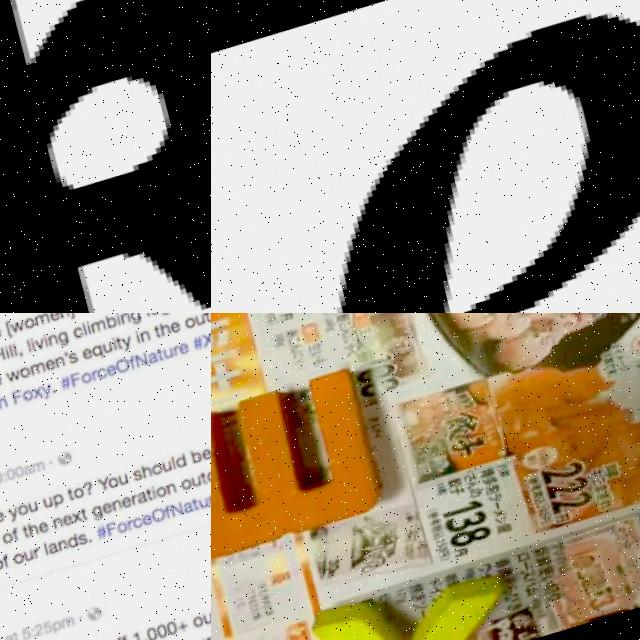1: (42, 621, 52, 636), (20, 627, 31, 640)
A: (46, 543, 59, 557), (181, 504, 193, 518), (136, 494, 148, 507), (148, 354, 158, 367), (22, 466, 33, 477), (2, 635, 13, 640)
B: (104, 315, 118, 332), (189, 450, 202, 467)
C: (72, 327, 84, 341), (132, 519, 144, 531), (95, 369, 106, 382)
D: (174, 456, 187, 472), (66, 535, 79, 551), (205, 470, 211, 486)
E: (337, 19, 640, 313), (80, 349, 94, 363), (105, 365, 118, 380), (37, 522, 50, 536), (170, 323, 182, 338), (44, 359, 56, 373), (178, 345, 190, 359), (62, 515, 74, 529), (101, 503, 113, 517), (120, 498, 132, 512), (140, 516, 152, 530), (48, 313, 60, 324), (201, 451, 211, 464), (148, 313, 161, 318), (0, 511, 5, 524), (0, 374, 4, 388), (0, 327, 3, 341)
F: (105, 523, 118, 539), (12, 390, 24, 407), (69, 373, 81, 390), (163, 506, 172, 522), (11, 527, 20, 542), (1, 554, 10, 569), (128, 357, 136, 372), (120, 637, 128, 640)
G: (90, 506, 104, 525), (57, 332, 70, 349), (128, 313, 142, 328), (156, 313, 170, 320)
H: (158, 323, 171, 340), (141, 466, 154, 482), (28, 521, 40, 538), (0, 394, 9, 411), (0, 347, 5, 364)
I: (134, 332, 142, 347), (85, 322, 92, 336), (115, 313, 121, 329), (4, 346, 10, 360), (30, 339, 36, 353), (43, 335, 49, 349), (110, 338, 116, 352), (150, 489, 156, 503)
K: (0, 0, 211, 313)
L: (81, 324, 88, 339), (42, 542, 48, 557), (8, 345, 14, 359), (12, 344, 18, 358), (170, 459, 176, 473), (25, 341, 31, 353), (144, 313, 150, 319)
M: (89, 321, 107, 337), (28, 362, 46, 378), (33, 313, 49, 328), (30, 461, 46, 475), (59, 618, 75, 631)
N: (170, 503, 184, 522), (134, 354, 148, 370), (164, 485, 177, 498), (120, 314, 132, 328), (110, 500, 122, 514), (56, 540, 68, 554), (138, 332, 150, 345), (52, 518, 64, 531), (46, 336, 58, 348), (54, 357, 65, 370), (59, 313, 70, 320)
O: (114, 358, 131, 378), (151, 509, 166, 526), (190, 619, 203, 632), (19, 367, 31, 381), (80, 373, 92, 387), (184, 319, 196, 332), (73, 489, 85, 502), (155, 488, 167, 501), (180, 481, 192, 494), (12, 553, 24, 566), (116, 523, 128, 536), (24, 317, 35, 331), (1, 532, 12, 546), (22, 391, 33, 405), (106, 479, 118, 491), (151, 466, 163, 478), (17, 505, 28, 518), (0, 558, 3, 572)
P: (51, 494, 64, 511), (51, 620, 62, 636)
Q: (90, 345, 104, 363)
R: (171, 348, 181, 359), (126, 521, 135, 533), (32, 548, 40, 561), (130, 497, 139, 508), (90, 371, 98, 383), (207, 498, 211, 509)
S: (66, 353, 78, 366), (132, 471, 143, 485), (78, 534, 89, 547)
T: (114, 337, 124, 353), (152, 327, 162, 342), (198, 473, 208, 488), (66, 490, 76, 504), (20, 526, 30, 540), (190, 501, 200, 515), (156, 351, 166, 364), (145, 491, 154, 505), (80, 508, 88, 523), (202, 313, 211, 325), (11, 631, 20, 640)
U: (22, 550, 34, 564), (102, 343, 114, 356), (27, 502, 39, 515), (42, 498, 54, 511), (118, 476, 130, 489), (190, 478, 202, 491), (198, 499, 210, 512), (162, 464, 174, 476), (164, 349, 174, 362), (195, 316, 205, 328), (202, 615, 211, 628)
V: (34, 339, 46, 353)
W: (211, 367, 387, 569), (10, 320, 26, 335), (6, 370, 22, 384)
X: (201, 334, 211, 352), (31, 388, 43, 401), (72, 512, 82, 526)
Y: (40, 383, 54, 402), (96, 478, 110, 494), (120, 338, 133, 355), (7, 508, 20, 525)
